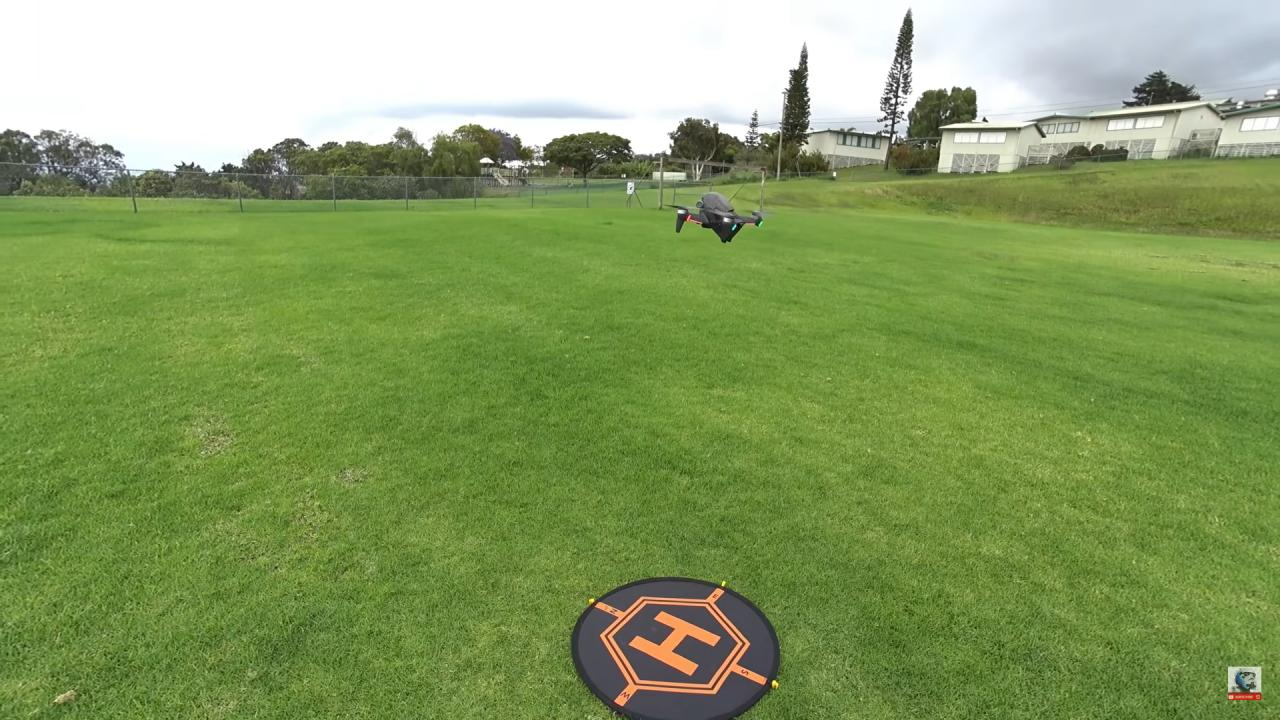Drone: (656, 186, 771, 250)
